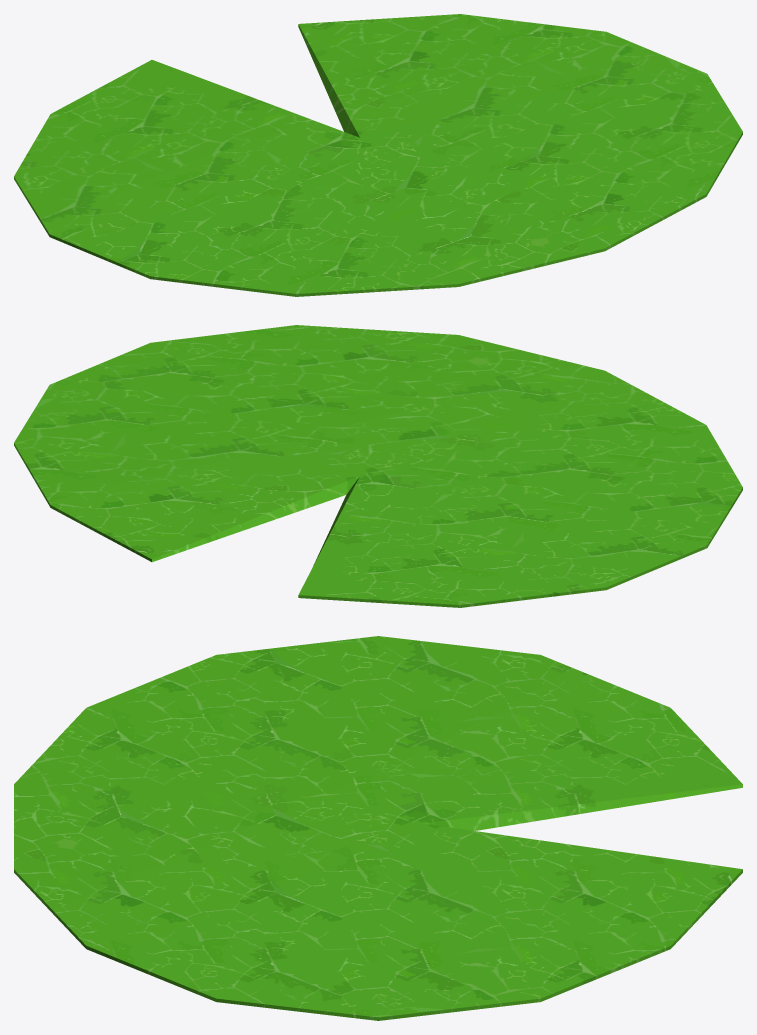
Rendered from lillypad02.fbx.
3 views of the same model, one above another, from view 1: azimuth 30°, elevation 25°; view 2: azimuth 150°, elevation 25°; view 3: azimuth 270°, elevation 25° (orthographic). The views are drawn at different scales.
Visible parts, largest first — view 1: pCylinder1; view 2: pCylinder1; view 3: pCylinder1.
Boxes of the visible parts, x1,y1,x2,y2 form: pCylinder1: (14, 14, 742, 296); pCylinder1: (14, 325, 742, 607); pCylinder1: (14, 636, 742, 1020).
Bounding box in the file's own units: 16.42 × 0.217 × 13.26.
Materials: 1 (1 with a texture image).
